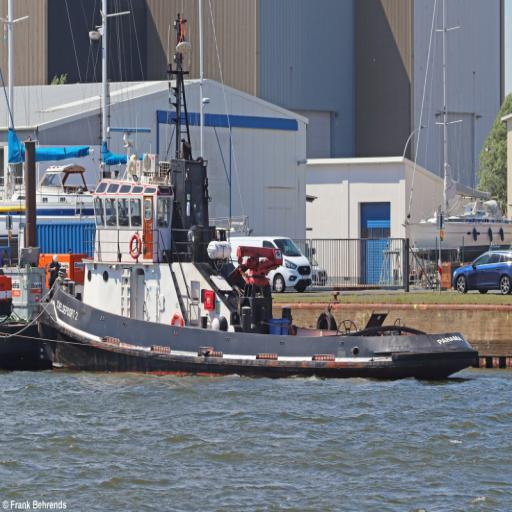tugboat: (37, 136, 483, 390)
